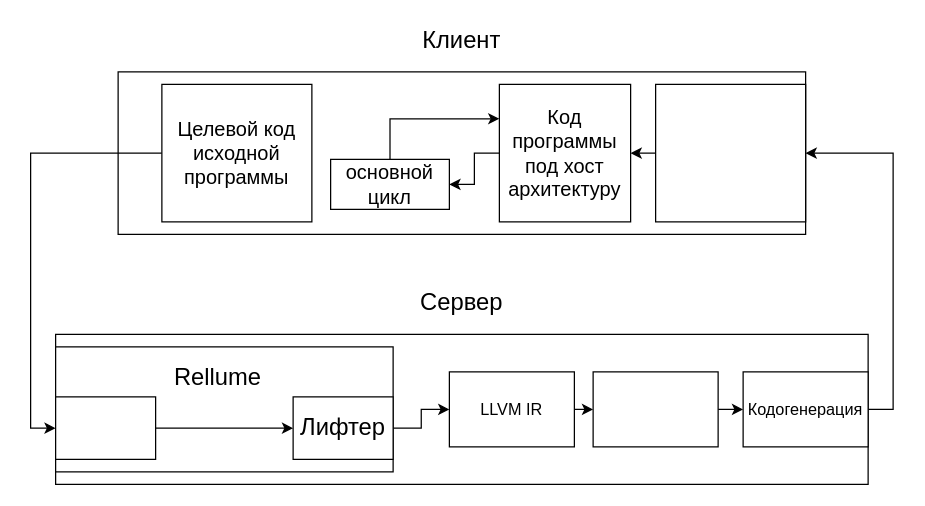
The diagram is 925 pixels wide and 506 high, and some of its shapes have lost their labels. The centre of each missing label's shape, as x and y in pixels:
"Декодер" goes at pixel 105 427.
"Динамический Линкер" goes at pixel 730 152.
"Оптимизации" goes at pixel 655 409.
